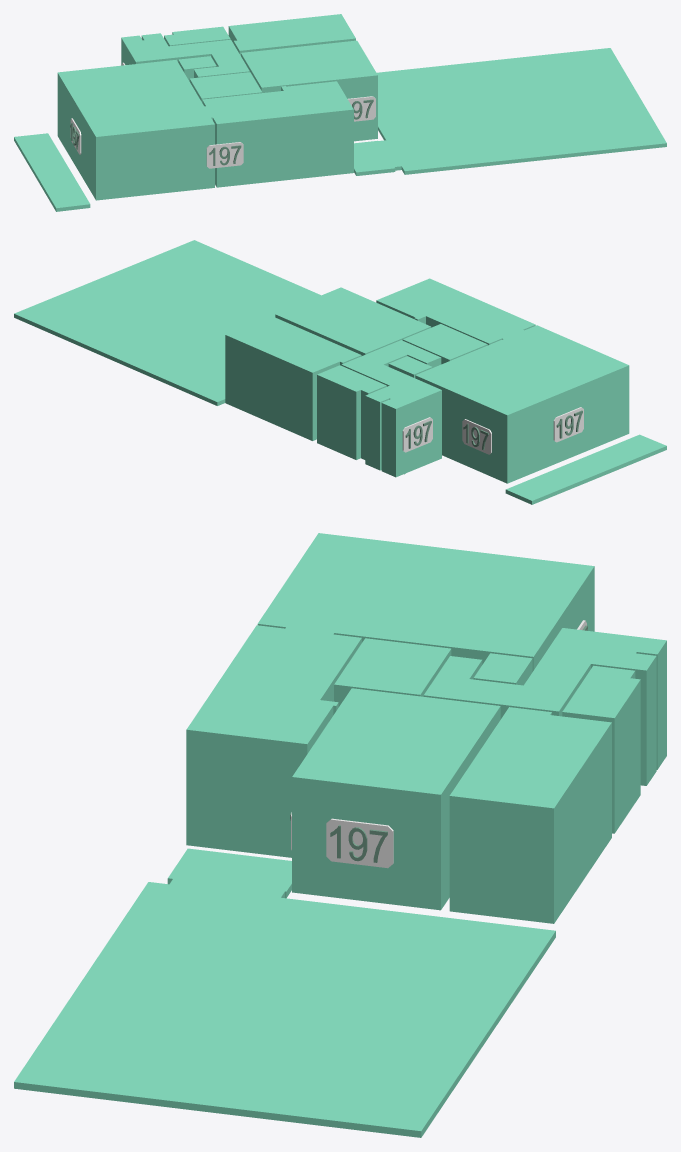
3 views of the same model, one above another, from view 1: azimuth 30°, elevation 25°; view 2: azimuth 150°, elevation 25°; view 3: azimuth 270°, elevation 25° (orthographic). The views are drawn at different scales.
Parts seen in each view (by area): view 1: g_8, g_7, g_2, g_1, g_0, g_5, g_9, g_3, g_6, g_33, g_4, g_25; view 2: g_8, g_7, g_0, g_5, g_1, g_2, g_6, g_9, g_3, g_17, g_21, g_13 (+1 smaller); view 3: g_8, g_1, g_7, g_0, g_2, g_5, g_6, g_3, g_29, g_4.
Part boxes in pixels (<box>): g_8: <box>354,48,666,175</box>; g_7: <box>57,59,214,200</box>; g_2: <box>202,81,353,187</box>; g_1: <box>241,40,377,141</box>; g_0: <box>228,14,355,55</box>; g_5: <box>121,33,249,77</box>; g_9: <box>14,133,90,211</box>; g_3: <box>189,72,262,102</box>; g_6: <box>164,26,230,46</box>; g_33: <box>206,142,243,168</box>; g_4: <box>178,56,216,81</box>; g_25: <box>347,96,375,121</box>; g_8: <box>14,240,320,405</box>; g_7: <box>415,325,629,483</box>; g_0: <box>225,316,361,440</box>; g_5: <box>341,340,441,477</box>; g_1: <box>275,287,431,355</box>; g_2: <box>376,278,535,345</box>; g_6: <box>317,365,386,459</box>; g_9: <box>505,434,666,504</box>; g_3: <box>402,324,487,364</box>; g_17: <box>462,419,491,454</box>; g_21: <box>553,407,583,442</box>; g_13: <box>402,417,432,452</box>; g_8: <box>14,848,555,1137</box>; g_1: <box>292,688,500,910</box>; g_7: <box>257,533,594,671</box>; g_0: <box>449,707,611,923</box>; g_2: <box>186,625,361,857</box>; g_5: <box>423,628,666,785</box>; g_6: <box>562,665,640,833</box>; g_3: <box>334,638,451,706</box>; g_29: <box>326,818,393,868</box>; g_4: <box>473,653,532,685</box>.
Size of the model in its own units: 24.62 by 2.74 by 13.19.
